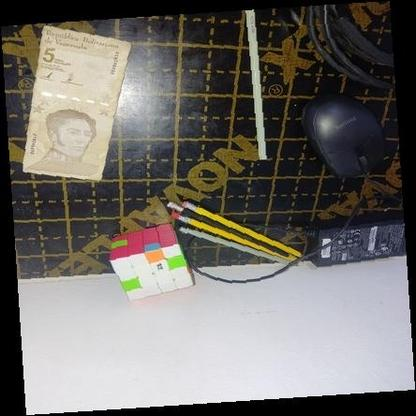five-front-vef: (22, 25, 132, 180)
